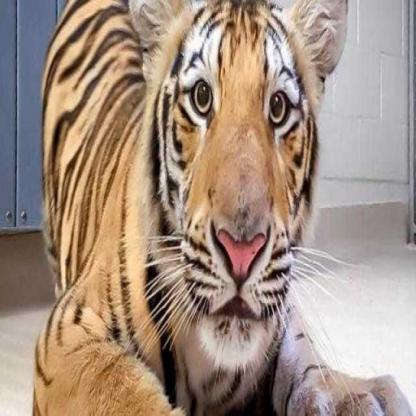Tiger: (19, 0, 415, 409)
